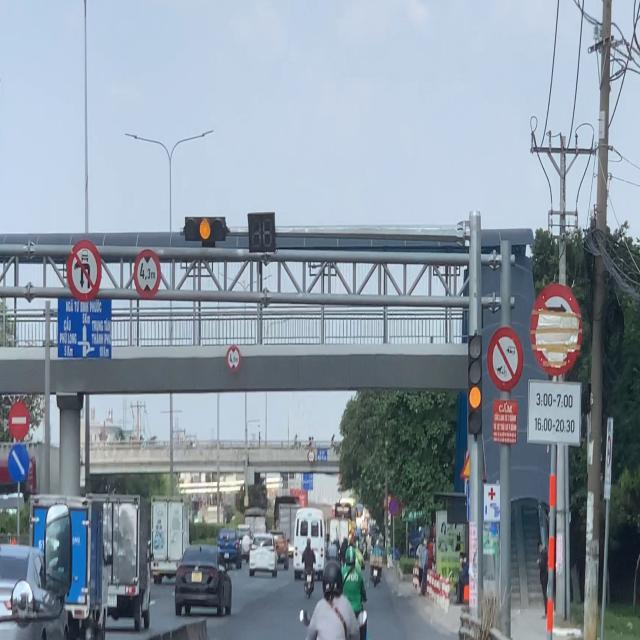Cam con lai: (486, 323, 525, 393)
Cam dung va do: (388, 497, 398, 516)
Cam nguoc chieu: (8, 401, 30, 442)
Cam quay dau xe: (66, 238, 102, 304)
Chieu cao toi da: (134, 247, 160, 300), (225, 344, 242, 373)
Hieu lenh: (7, 443, 30, 485)
